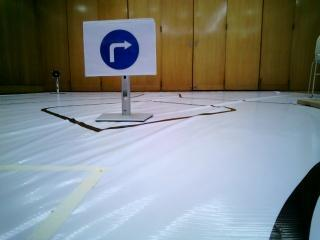right: (91, 25, 147, 72)
